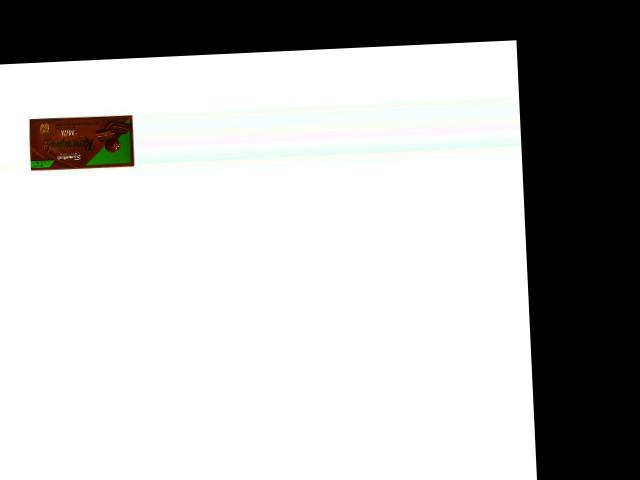chocolate: (24, 109, 136, 173)
